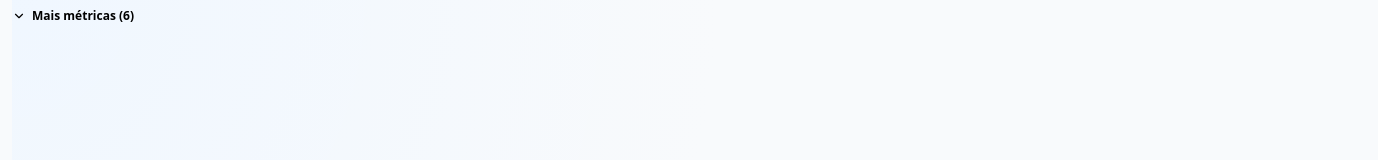
Test: DetalhamentoKpiStrip › formats % values with comma + percent
The width and height of the screenshot is (1378, 160).
Click the button "Mais métricas (6)" at (73, 16), box x1=12 y1=8 x2=134 y2=24
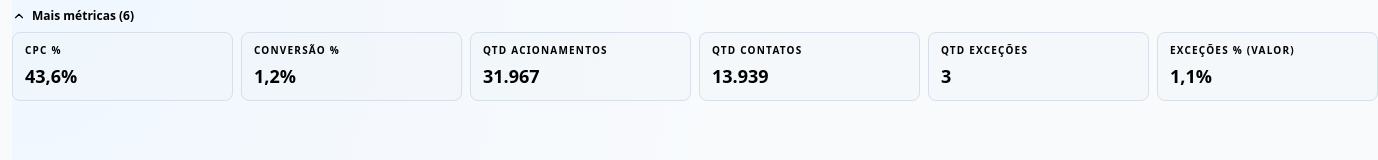
Expected: the text "43,6%" is shown, x1=25 y1=64 x2=77 y2=88
Expected: the text "1,2%" is shown, x1=254 y1=64 x2=296 y2=88
Expected: the text "1,1%" is shown, x1=1170 y1=64 x2=1212 y2=88
